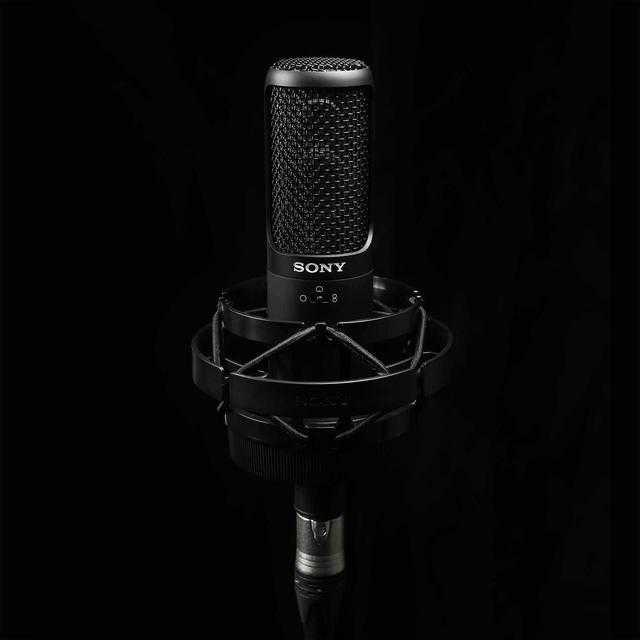microphone: (194, 58, 443, 634), (262, 60, 374, 333)
